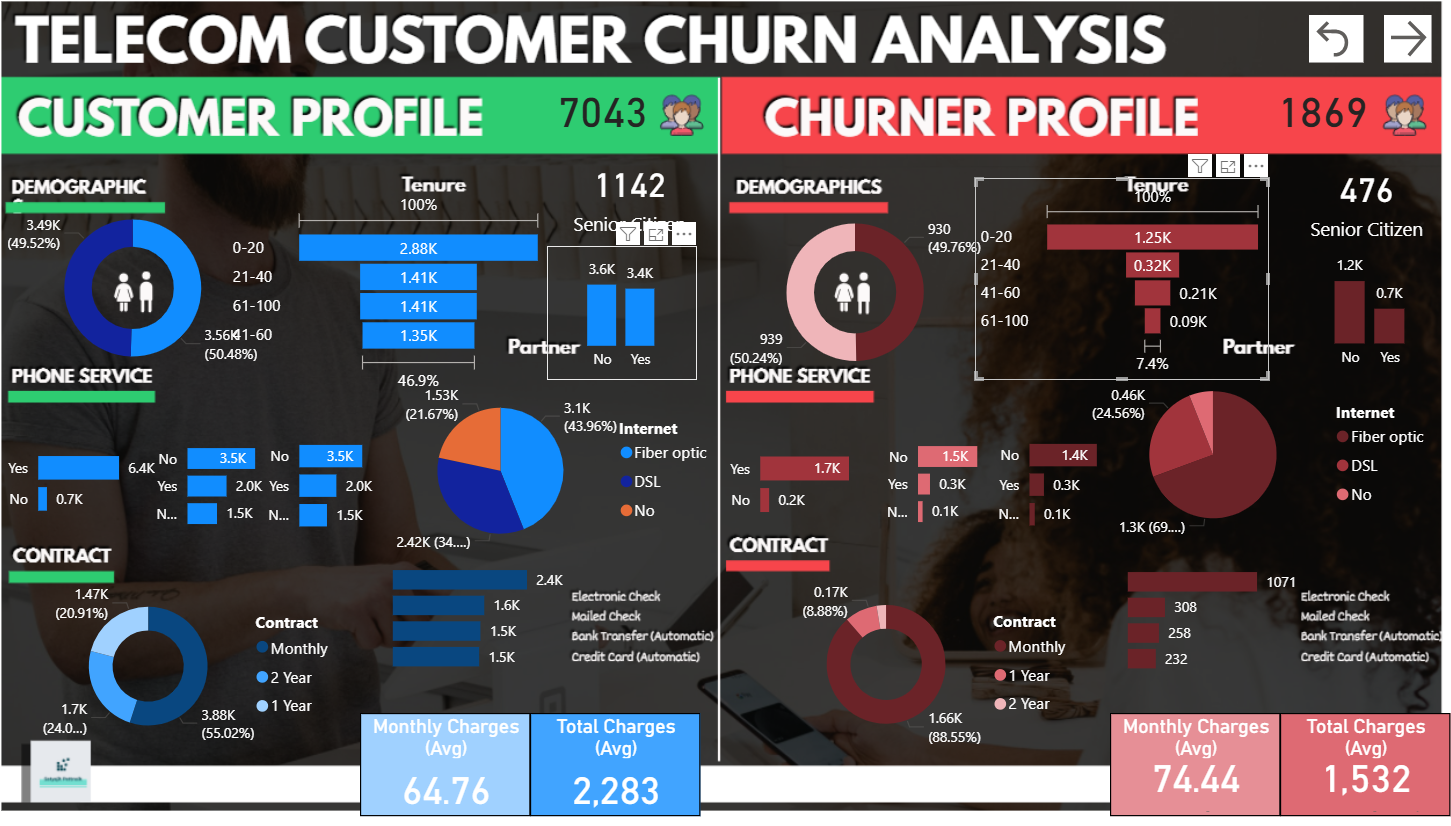

The dashboard page shown, as its layout file describes it:
{"tool":"powerbi","page":{"name":"Summary","canvas":[1280,720],"ordinal":1},"visuals":[{"type":"card","fields":{"Values":["CountNonNull(Churned_Data.Churn)"]},"box":[1077.6,84.7,161.6,54.9],"z":0},{"type":"card","fields":{"Values":["CountNonNull(Telco-Churn-Analysis.Churn)"]},"box":[456.5,84.7,161.6,54.9],"z":1000},{"type":"donutChart","fields":{"Category":["Telco-Churn-Analysis.gender"],"Y":["CountNonNull(Telco-Churn-Analysis.gender)"]},"box":[17.3,169.4,229,174.1],"z":2000},{"type":"donutChart","fields":{"Category":["Churned_Data.gender"],"Y":["CountNonNull(Churned_Data.gender)"]},"box":[639.9,172.2,229.6,174.6],"z":3000},{"type":"funnel","fields":{"Category":["Telco-Churn-Analysis.Tenure_Bin"],"Y":["CountNonNull(Telco-Churn-Analysis.Tenure_Bin)"]},"box":[212.9,169.1,278,180.4],"z":4000},{"type":"funnel","fields":{"Category":["Churned_Data.Tenure_Bin"],"Y":["CountNonNull(Churned_Data.Tenure_Bin)"]},"box":[858,161.6,254.1,174.1],"z":5000},{"type":"card","fields":{"Values":["Sum(Telco-Churn-Analysis.SeniorCitizen)"]},"box":[505.1,138,109.8,76.9],"z":6000},{"type":"card","fields":{"Values":["Sum(Churned_Data.SeniorCitizen)"]},"box":[1140.4,141.2,111.4,78.4],"z":7000},{"type":"clusteredColumnChart","fields":{"Category":["Telco-Churn-Analysis.Partner"],"Y":["CountNonNull(Telco-Churn-Analysis.Partner)"]},"box":[489.4,219.6,128.6,116.1],"z":8000},{"type":"clusteredColumnChart","fields":{"Category":["Churned_Data.Partner"],"Y":["CountNonNull(Churned_Data.Partner)"]},"box":[1132.5,214.9,133.3,119.2],"z":9000},{"type":"clusteredBarChart","fields":{"Category":["Telco-Churn-Analysis.PhoneService"],"Y":["CountNonNull(Telco-Churn-Analysis.PhoneService)"]},"box":[17.3,363.9,139.6,114.5],"z":10000},{"type":"clusteredBarChart","fields":{"Category":["Churned_Data.PhoneService"],"Y":["CountNonNull(Churned_Data.PhoneService)"]},"box":[640,363.9,141.2,116.1],"z":11000},{"type":"clusteredBarChart","fields":{"Category":["Telco-Churn-Analysis.OnlineSecurity"],"Y":["CountNonNull(Telco-Churn-Analysis.OnlineSecurity)"]},"box":[131.8,371.8,134.9,103.5],"z":12000},{"type":"clusteredBarChart","fields":{"Category":["Churned_Data.OnlineSecurity"],"Y":["CountNonNull(Churned_Data.OnlineSecurity)"]},"box":[765.5,370.2,125.5,103.5],"z":13000},{"type":"clusteredBarChart","fields":{"Category":["Telco-Churn-Analysis.TechSupport"],"Y":["CountNonNull(Telco-Churn-Analysis.TechSupport)"]},"box":[229,368.6,133.3,109.8],"z":14000},{"type":"clusteredBarChart","fields":{"Category":["Churned_Data.TechSupport"],"Y":["CountNonNull(Churned_Data.TechSupport)"]},"box":[858,367.1,136.5,109.8],"z":15000},{"type":"pieChart","fields":{"Y":["CountNonNull(Telco-Churn-Analysis.InternetService)"],"Category":["Telco-Churn-Analysis.InternetService"]},"box":[342,334.1,299.6,160],"z":16000},{"type":"pieChart","fields":{"Category":["Churned_Data.InternetService"],"Y":["CountNonNull(Churned_Data.InternetService)"]},"box":[952.2,320,307.5,160],"z":17000},{"type":"donutChart","fields":{"Category":["Telco-Churn-Analysis.Contract"],"Y":["CountNonNull(Telco-Churn-Analysis.Contract)"]},"box":[47.1,505.1,268.2,153.7],"z":18000},{"type":"donutChart","fields":{"Category":["Churned_Data.Contract"],"Y":["CountNonNull(Churned_Data.Contract)"]},"box":[683.8,503.5,268,154.1],"z":19000},{"type":"clusteredBarChart","fields":{"Category":["Telco-Churn-Analysis.PaymentMethod"],"Y":["CountNonNull(Telco-Churn-Analysis.PaymentMethod)"]},"box":[351.4,486.3,161.6,102],"z":20000},{"type":"clusteredBarChart","fields":{"Category":["Churned_Data.PaymentMethod"],"Y":["CountNonNull(Churned_Data.PaymentMethod)"]},"box":[985.1,487.8,160,102],"z":21000},{"type":"card","title":"Monthly Charges (Avg)","fields":{"Values":["Avg(Telco-Churn-Analysis.MonthlyCharges)"]},"box":[328.1,622.5,146.5,88.9],"z":22000},{"type":"card","title":"Monthly Charges (Avg)","fields":{"Values":["Avg(Churned_Data.MonthlyCharges)"]},"box":[974.4,622.5,146.5,88.9],"z":23000},{"type":"card","title":"Total Charges (Avg)","fields":{"Values":["Avg(Churned_Data.TotalCharges)"]},"box":[1120.9,622.5,146.5,88.9],"z":24000},{"type":"card","title":"Total Charges (Avg)","fields":{"Values":["Avg(Telco-Churn-Analysis.TotalCharges)"]},"box":[474.7,622.5,146.5,88.9],"z":25000},{"type":"actionButton","box":[1211,20.4,40.8,40.8],"z":26000},{"type":"actionButton","box":[1146.7,20.4,47.1,40.8],"z":27000}]}

Visuals, with their boxes in screenshot pixels (x1, y1, x2, y2), scaled from the page's 1280x720 canvas onto the 1451x826 screenshot:
card - CountNonNull(Churned_Data.Churn): <bbox>1222, 97, 1405, 160</bbox>
card - CountNonNull(Telco-Churn-Analysis.Churn): <bbox>517, 97, 701, 160</bbox>
donutChart - Telco-Churn-Analysis.gender x CountNonNull(Telco-Churn-Analysis.gender): <bbox>20, 194, 279, 394</bbox>
donutChart - Churned_Data.gender x CountNonNull(Churned_Data.gender): <bbox>725, 198, 986, 398</bbox>
funnel - Telco-Churn-Analysis.Tenure_Bin x CountNonNull(Telco-Churn-Analysis.Tenure_Bin): <bbox>241, 194, 556, 401</bbox>
funnel - Churned_Data.Tenure_Bin x CountNonNull(Churned_Data.Tenure_Bin): <bbox>973, 185, 1261, 385</bbox>
card - Sum(Telco-Churn-Analysis.SeniorCitizen): <bbox>573, 158, 697, 247</bbox>
card - Sum(Churned_Data.SeniorCitizen): <bbox>1293, 162, 1419, 252</bbox>
clusteredColumnChart - Telco-Churn-Analysis.Partner x CountNonNull(Telco-Churn-Analysis.Partner): <bbox>555, 252, 701, 385</bbox>
clusteredColumnChart - Churned_Data.Partner x CountNonNull(Churned_Data.Partner): <bbox>1284, 247, 1435, 383</bbox>
clusteredBarChart - Telco-Churn-Analysis.PhoneService x CountNonNull(Telco-Churn-Analysis.PhoneService): <bbox>20, 417, 178, 549</bbox>
clusteredBarChart - Churned_Data.PhoneService x CountNonNull(Churned_Data.PhoneService): <bbox>726, 417, 886, 551</bbox>
clusteredBarChart - Telco-Churn-Analysis.OnlineSecurity x CountNonNull(Telco-Churn-Analysis.OnlineSecurity): <bbox>149, 427, 302, 545</bbox>
clusteredBarChart - Churned_Data.OnlineSecurity x CountNonNull(Churned_Data.OnlineSecurity): <bbox>868, 425, 1010, 543</bbox>
clusteredBarChart - Telco-Churn-Analysis.TechSupport x CountNonNull(Telco-Churn-Analysis.TechSupport): <bbox>260, 423, 411, 549</bbox>
clusteredBarChart - Churned_Data.TechSupport x CountNonNull(Churned_Data.TechSupport): <bbox>973, 421, 1127, 547</bbox>
pieChart - CountNonNull(Telco-Churn-Analysis.InternetService) x Telco-Churn-Analysis.InternetService: <bbox>388, 383, 727, 567</bbox>
pieChart - Churned_Data.InternetService x CountNonNull(Churned_Data.InternetService): <bbox>1079, 367, 1428, 551</bbox>
donutChart - Telco-Churn-Analysis.Contract x CountNonNull(Telco-Churn-Analysis.Contract): <bbox>53, 579, 357, 756</bbox>
donutChart - Churned_Data.Contract x CountNonNull(Churned_Data.Contract): <bbox>775, 578, 1079, 754</bbox>
clusteredBarChart - Telco-Churn-Analysis.PaymentMethod x CountNonNull(Telco-Churn-Analysis.PaymentMethod): <bbox>398, 558, 582, 675</bbox>
clusteredBarChart - Churned_Data.PaymentMethod x CountNonNull(Churned_Data.PaymentMethod): <bbox>1117, 560, 1298, 677</bbox>
"Monthly Charges (Avg)" card: <bbox>372, 714, 538, 816</bbox>
"Monthly Charges (Avg)" card: <bbox>1105, 714, 1271, 816</bbox>
"Total Charges (Avg)" card: <bbox>1271, 714, 1437, 816</bbox>
"Total Charges (Avg)" card: <bbox>538, 714, 704, 816</bbox>
actionButton: <bbox>1373, 23, 1419, 70</bbox>
actionButton: <bbox>1300, 23, 1353, 70</bbox>
